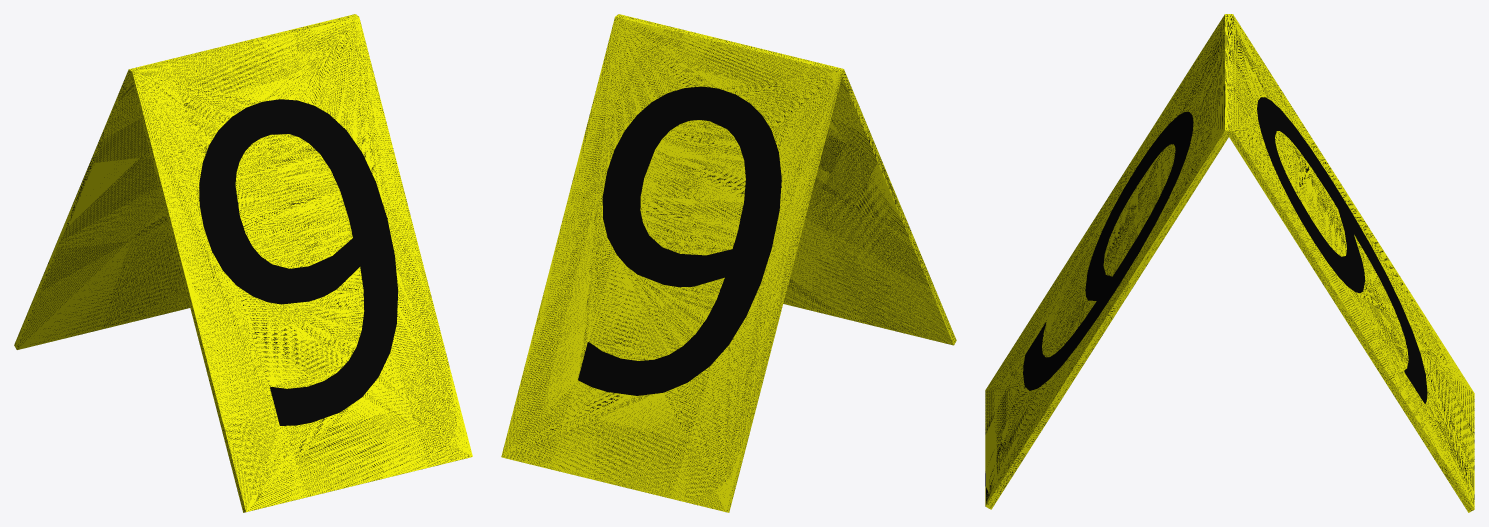
The model's file is I_Nine.dae.
The picture shows the model from 3 angles, left to right: view 1: azimuth 30°, elevation 25°; view 2: azimuth 150°, elevation 25°; view 3: azimuth 270°, elevation 25°; orthographic projection. The views are drawn at different scales.
Visible parts, largest first — view 1: skp5F89 (×3); view 2: skp5F89 (×3); view 3: skp5F89 (×5).
Boxes of the visible parts, box(x1,y1,x2,y2) form: skp5F89 (×3): box(14, 14, 472, 512); skp5F89 (×3): box(501, 14, 956, 512); skp5F89 (×5): box(985, 14, 1474, 512).
Size of the model in its own units: 4 by 7.09 by 6.11.
